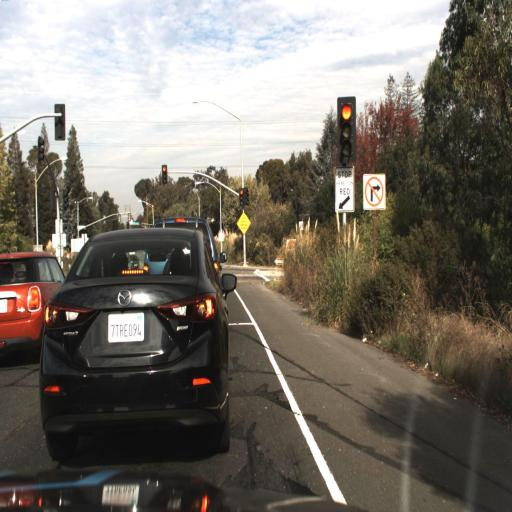car: (29, 222, 239, 462), (0, 238, 70, 369)
trafficLight-Red: (327, 74, 364, 190), (335, 96, 358, 167), (156, 154, 170, 190), (235, 180, 247, 216), (159, 162, 169, 188), (237, 186, 246, 208)
